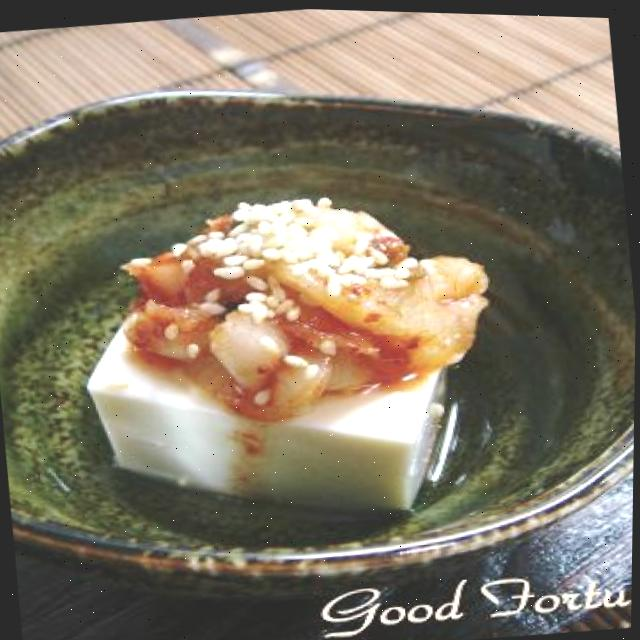豆腐料理: (56, 164, 515, 544)
